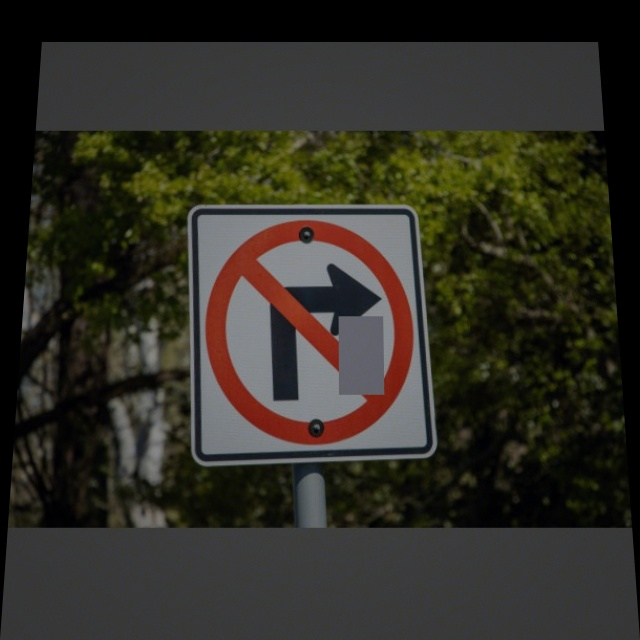Right_Turn_Prohibited: (198, 220, 424, 446)
